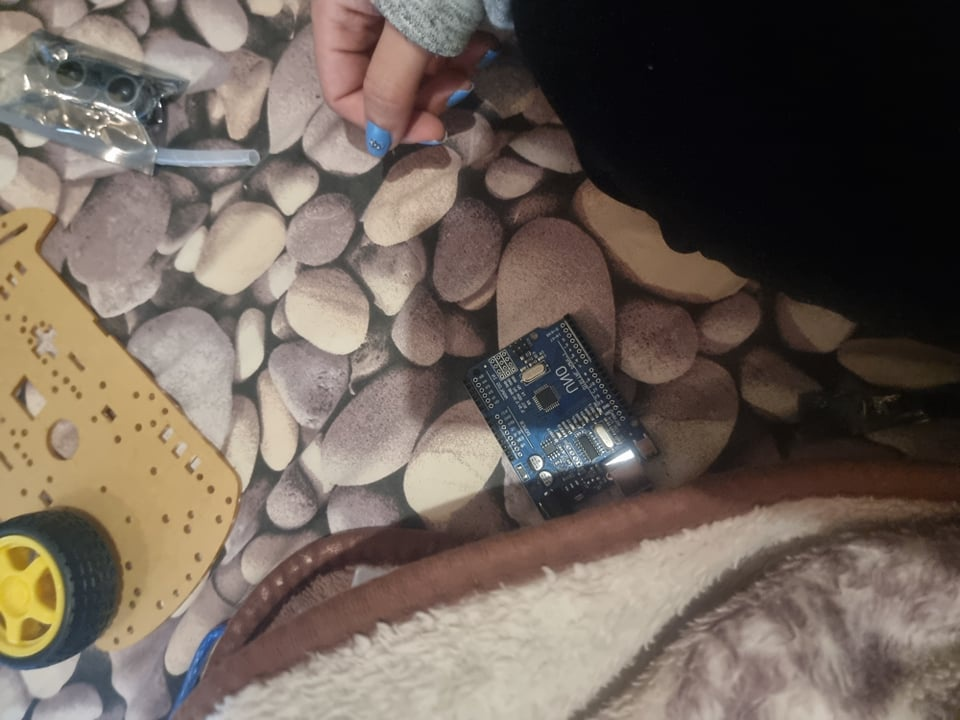SENSOR: (38, 54, 156, 119)
UNO R3: (464, 316, 659, 519)
